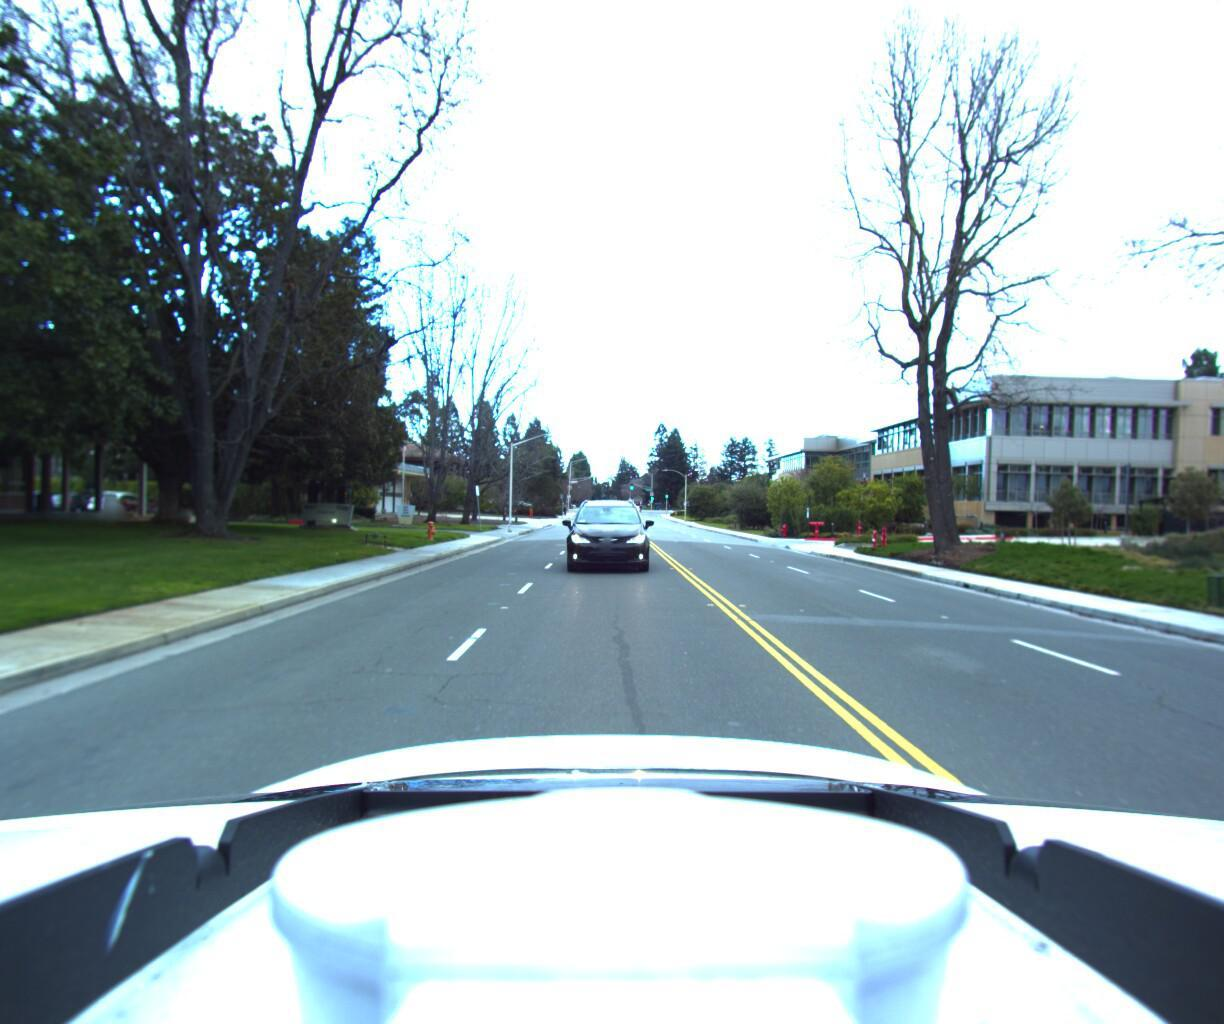car: (555, 492, 647, 578)
